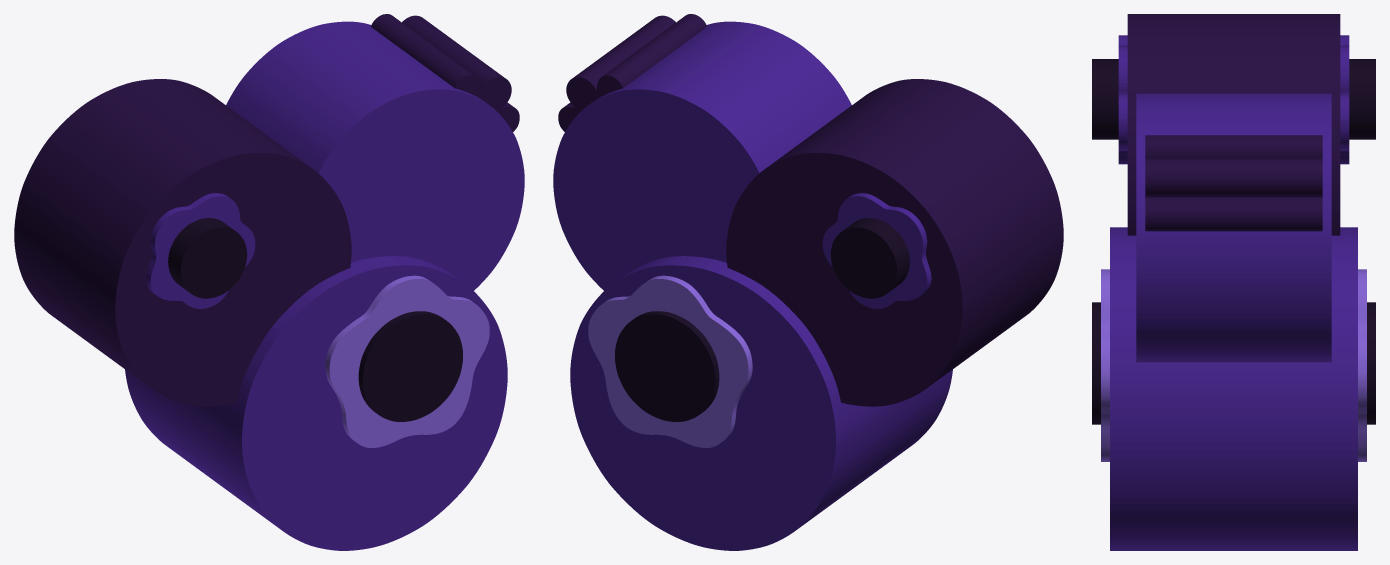
Rendered from U+1FAD0.obj.
3 views of the same model, side by side, from view 1: azimuth 30°, elevation 25°; view 2: azimuth 150°, elevation 25°; view 3: azimuth 270°, elevation 25° (orthographic). The views are drawn at different scales.
Visible parts, largest first — view 1: U+1FAD0_layer02_obj00, U+1FAD0_layer04_obj00, U+1FAD0_layer01_obj00, U+1FAD0_layer06_obj00, U+1FAD0_layer05_obj00, U+1FAD0_layer00_obj00, U+1FAD0_layer03_obj00; view 2: U+1FAD0_layer02_obj00, U+1FAD0_layer04_obj00, U+1FAD0_layer01_obj00, U+1FAD0_layer06_obj00, U+1FAD0_layer05_obj00, U+1FAD0_layer00_obj00, U+1FAD0_layer03_obj00; view 3: U+1FAD0_layer04_obj00, U+1FAD0_layer01_obj00, U+1FAD0_layer02_obj00, U+1FAD0_layer00_obj00, U+1FAD0_layer06_obj00, U+1FAD0_layer05_obj00, U+1FAD0_layer03_obj00.
Boxes of the visible parts, <box> form: U+1FAD0_layer02_obj00: <box>14,79,351,406</box>; U+1FAD0_layer04_obj00: <box>125,256,507,550</box>; U+1FAD0_layer01_obj00: <box>226,21,524,290</box>; U+1FAD0_layer06_obj00: <box>168,218,462,421</box>; U+1FAD0_layer05_obj00: <box>325,275,489,447</box>; U+1FAD0_layer00_obj00: <box>371,14,519,131</box>; U+1FAD0_layer03_obj00: <box>146,193,255,308</box>; U+1FAD0_layer02_obj00: <box>726,79,1063,406</box>; U+1FAD0_layer04_obj00: <box>570,256,952,550</box>; U+1FAD0_layer01_obj00: <box>553,21,851,290</box>; U+1FAD0_layer06_obj00: <box>615,218,909,421</box>; U+1FAD0_layer05_obj00: <box>588,275,752,447</box>; U+1FAD0_layer00_obj00: <box>558,14,706,131</box>; U+1FAD0_layer03_obj00: <box>822,193,931,308</box>; U+1FAD0_layer04_obj00: <box>1110,227,1357,550</box>; U+1FAD0_layer01_obj00: <box>1136,93,1331,362</box>; U+1FAD0_layer02_obj00: <box>1127,14,1340,235</box>; U+1FAD0_layer00_obj00: <box>1145,135,1322,231</box>; U+1FAD0_layer06_obj00: <box>1092,59,1375,424</box>; U+1FAD0_layer05_obj00: <box>1101,269,1366,461</box>; U+1FAD0_layer03_obj00: <box>1118,35,1349,164</box>.
Bounding box in the file's own units: 0.5678 × 0.5677 × 0.32.
